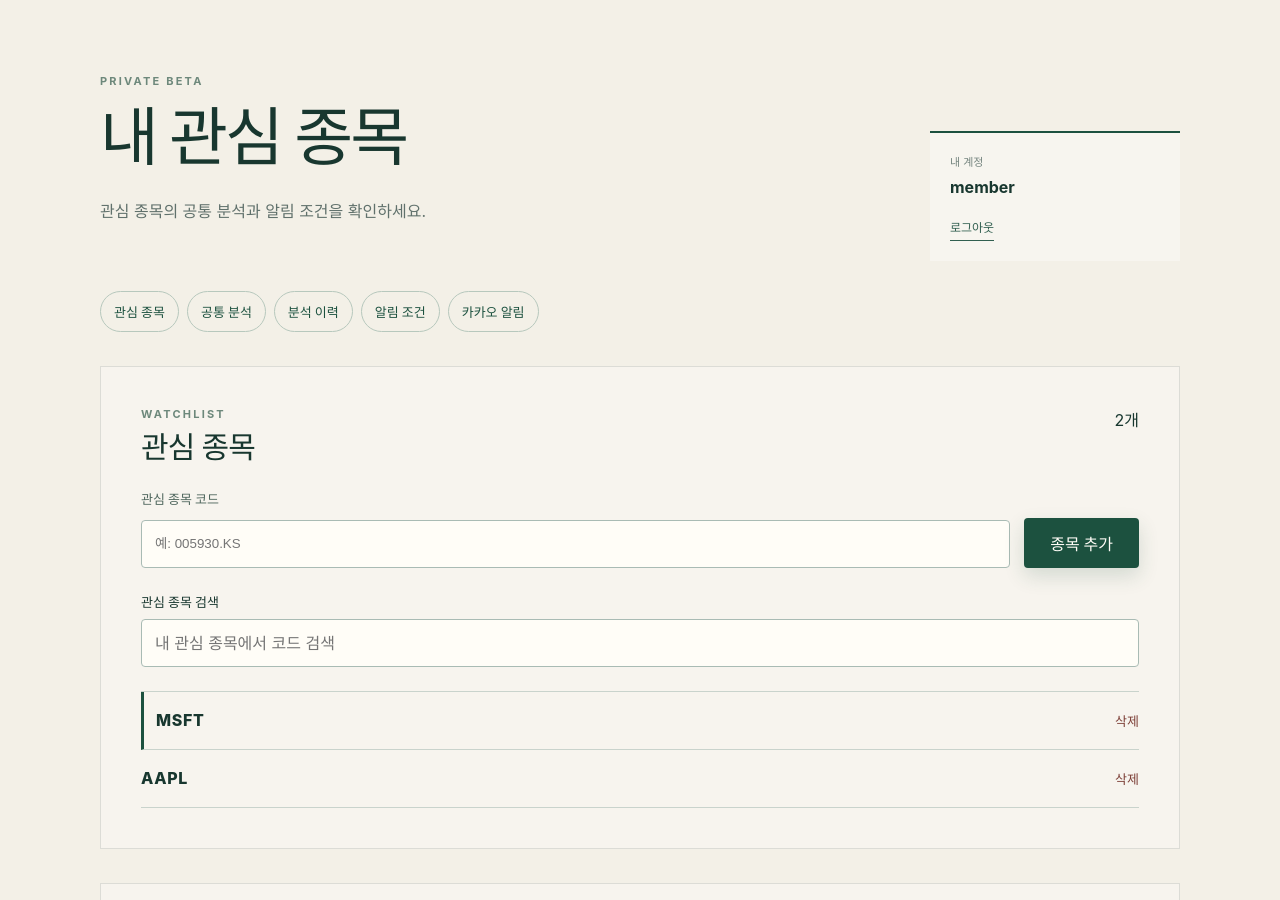
Test: saved analysis selection › does not show an earlier symbol history after selection changes and the new request fails
Click the button with aria-label "AAPL 선택": (164, 778) 141,764 -> 188,792
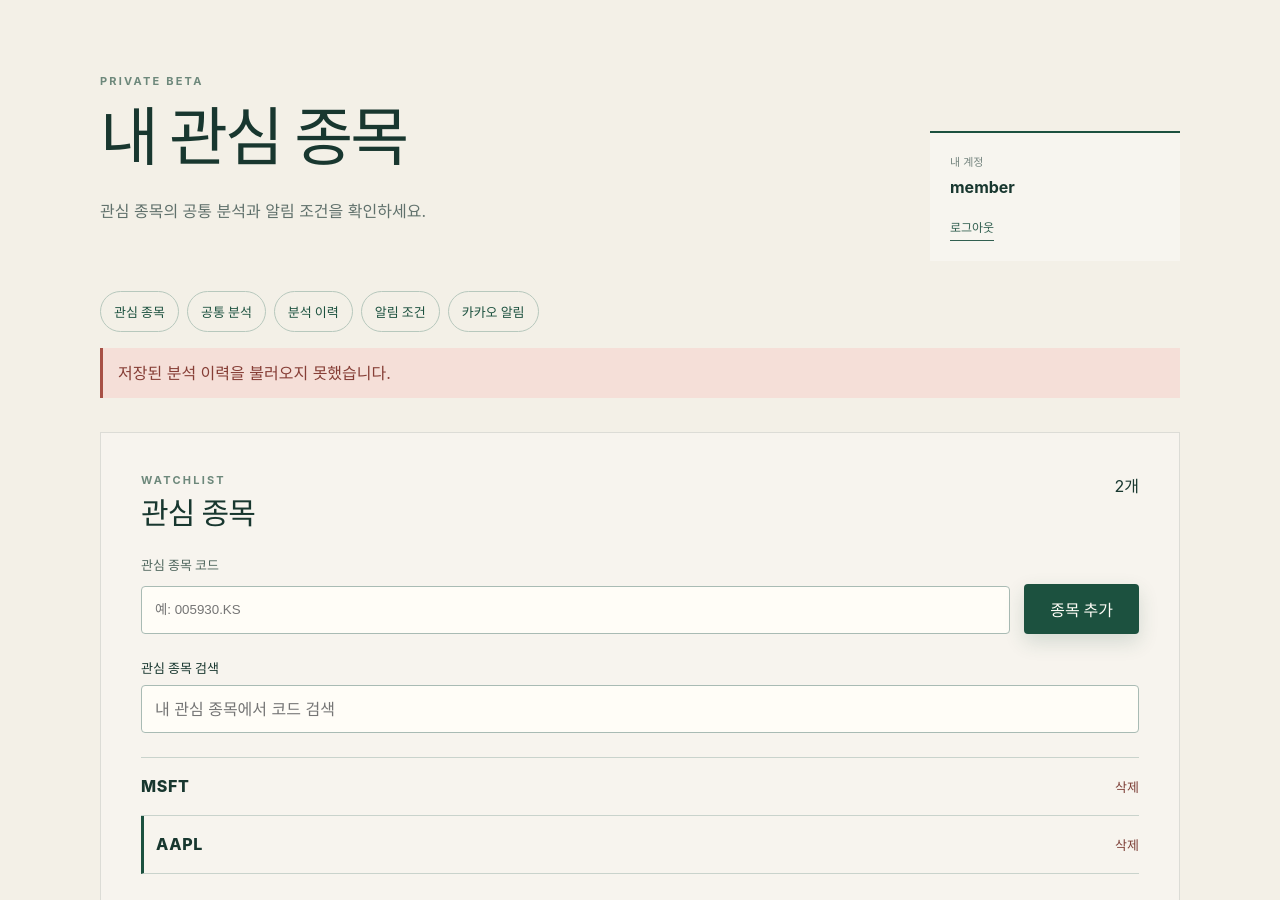
Expected: the message shows "저장된 분석 이력을 불러오지 못했습니다", 118,362 -> 391,382
